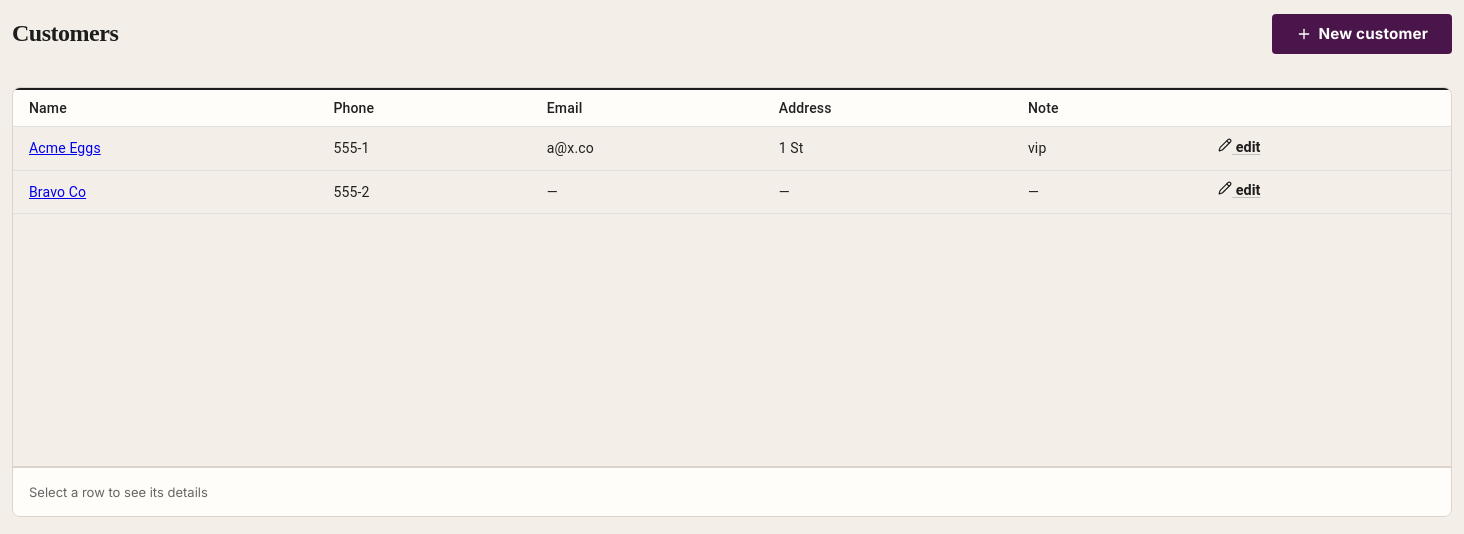
Test: CustomersPage selected-record inspector (#908) › selects a row on click, marks it aria-selected, and fills the inspector
Click the text "Acme Eggs": x=732, y=148 x1=13 y1=127 x2=1451 y2=170
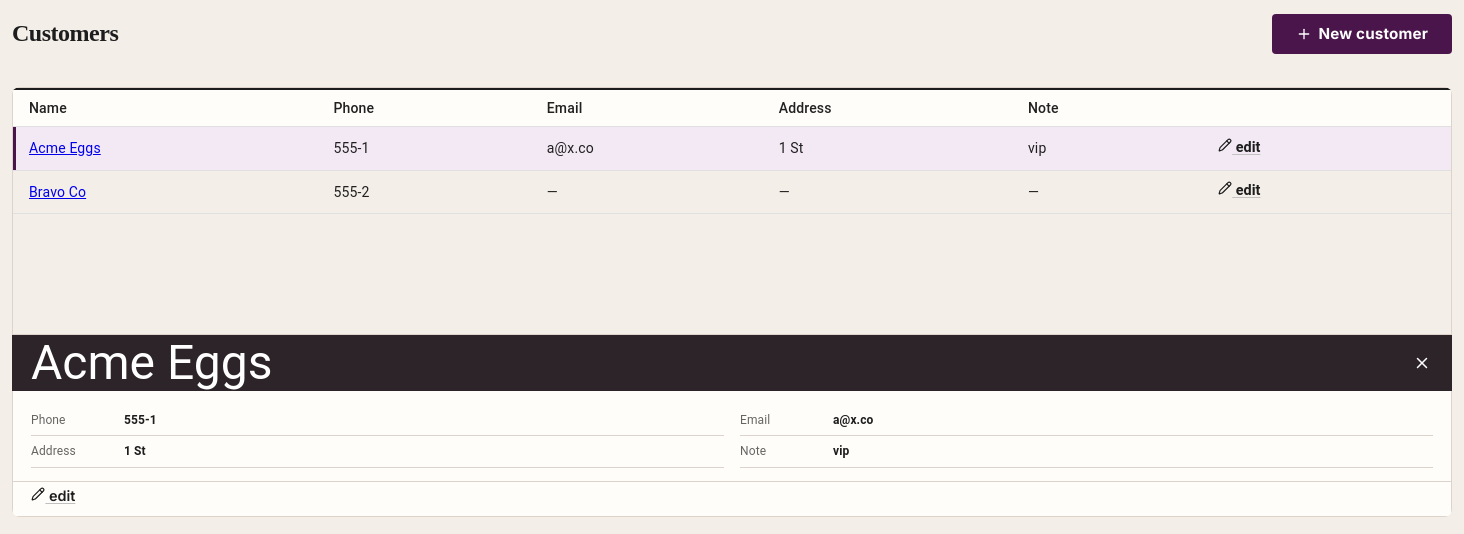
Result: the heading "Acme Eggs" is shown at x1=31 y1=335 x2=272 y2=391
Result: the text "555-1" is shown at x1=124 y1=413 x2=157 y2=427
Result: the text "a@x.co" is shown at x1=833 y1=413 x2=874 y2=427
